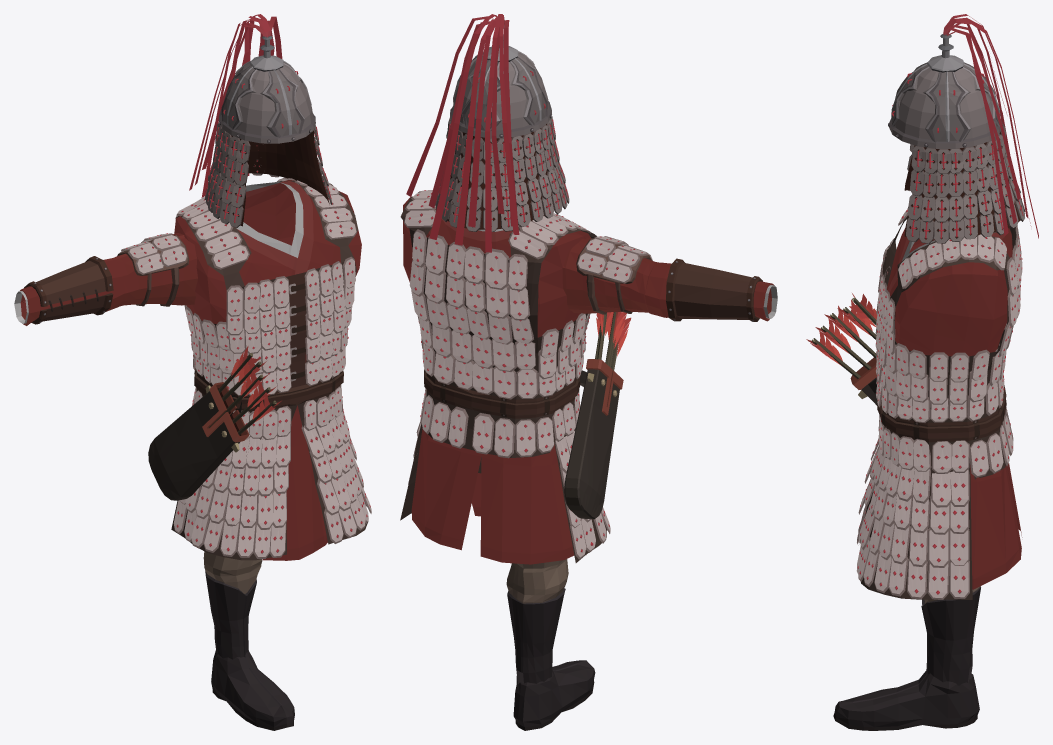
The model's file is qingDynastyWarrior.glb.
The picture shows the model from 3 angles, left to right: view 1: azimuth 30°, elevation 25°; view 2: azimuth 150°, elevation 25°; view 3: azimuth 270°, elevation 25°; orthographic projection. The views are drawn at different scales.
Visible parts, largest first — view 1: qingDynastyWarriorBody, qingDynastyWarriorHelmet, qingDynastyWarriorQuiver, qingDynastyWarriorLowerArm, qingDynastyWarriorUpperArm, qingDynastyWarriorPantsLowerLeg, qingDynastyWarriorFoot; view 2: qingDynastyWarriorBody, qingDynastyWarriorHelmet, qingDynastyWarriorQuiver, qingDynastyWarriorLowerArm, qingDynastyWarriorUpperArm, qingDynastyWarriorPantsLowerLeg, qingDynastyWarriorFoot; view 3: qingDynastyWarriorBody, qingDynastyWarriorHelmet, qingDynastyWarriorFoot, qingDynastyWarriorPantsLowerLeg, qingDynastyWarriorQuiver.
Part boxes in pixels (box(x1,y1,x2,y2)): qingDynastyWarriorBody: box(171, 177, 371, 560); qingDynastyWarriorHelmet: box(189, 14, 332, 227); qingDynastyWarriorQuiver: box(148, 346, 281, 500); qingDynastyWarriorLowerArm: box(14, 256, 124, 325); qingDynastyWarriorUpperArm: box(113, 233, 197, 306); qingDynastyWarriorPantsLowerLeg: box(203, 551, 262, 659); qingDynastyWarriorFoot: box(211, 650, 294, 730); qingDynastyWarriorBody: box(400, 190, 610, 564); qingDynastyWarriorHelmet: box(406, 14, 569, 252); qingDynastyWarriorQuiver: box(564, 312, 631, 519); qingDynastyWarriorLowerArm: box(643, 258, 777, 321); qingDynastyWarriorUpperArm: box(562, 236, 658, 314); qingDynastyWarriorPantsLowerLeg: box(506, 559, 568, 684); qingDynastyWarriorFoot: box(513, 660, 595, 730); qingDynastyWarriorBody: box(856, 207, 1022, 599); qingDynastyWarriorHelmet: box(888, 14, 1038, 243); qingDynastyWarriorFoot: box(833, 671, 979, 730); qingDynastyWarriorPantsLowerLeg: box(921, 586, 980, 685); qingDynastyWarriorQuiver: box(806, 293, 877, 405).
Size of the model in its own units: 1.17 by 2.19 by 0.6413.
